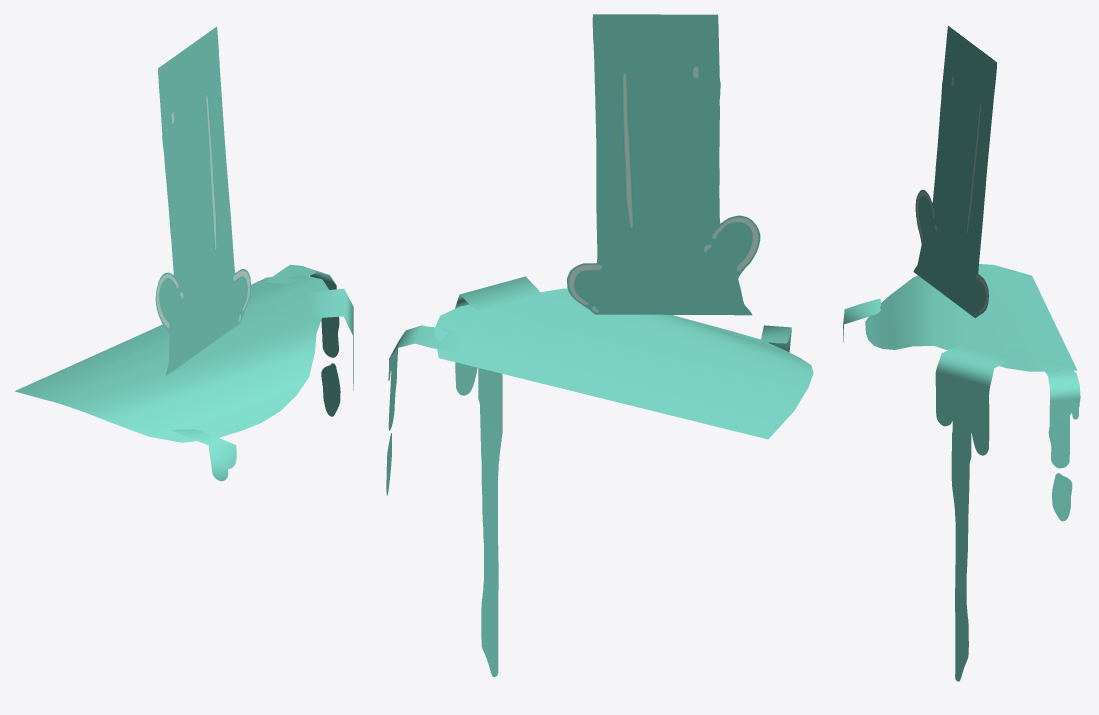
Rendered from Mesh_Home_RF_River_06_SM.fbx.
3 renders of one model, left to right at view 1: azimuth 30°, elevation 25°; view 2: azimuth 150°, elevation 25°; view 3: azimuth 270°, elevation 25°, orthographic. The views are drawn at different scales.
Visible parts, largest first — view 1: Mesh_Home_RF_River_06; view 2: Mesh_Home_RF_River_06; view 3: Mesh_Home_RF_River_06.
Part boxes in pixels (x1,y1,x2,y2): Mesh_Home_RF_River_06: (15,26,353,481); Mesh_Home_RF_River_06: (386,14,813,676); Mesh_Home_RF_River_06: (843,26,1080,681).
Bounding box in the file's own units: 928 × 1733 × 655.
Materials: 1 (1 with a texture image).
